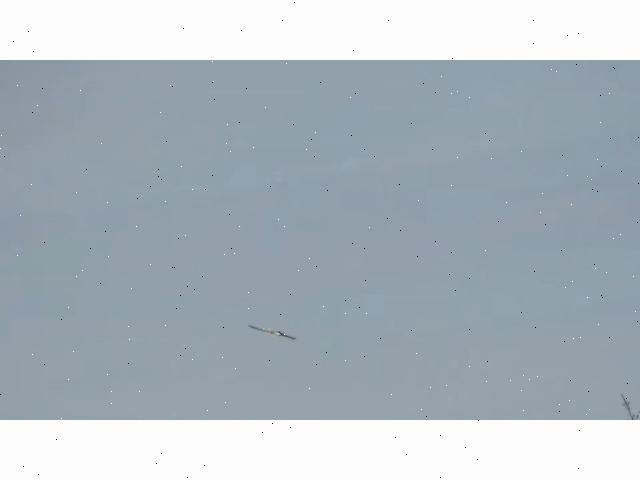Anti-Drone: (250, 326, 294, 340)
